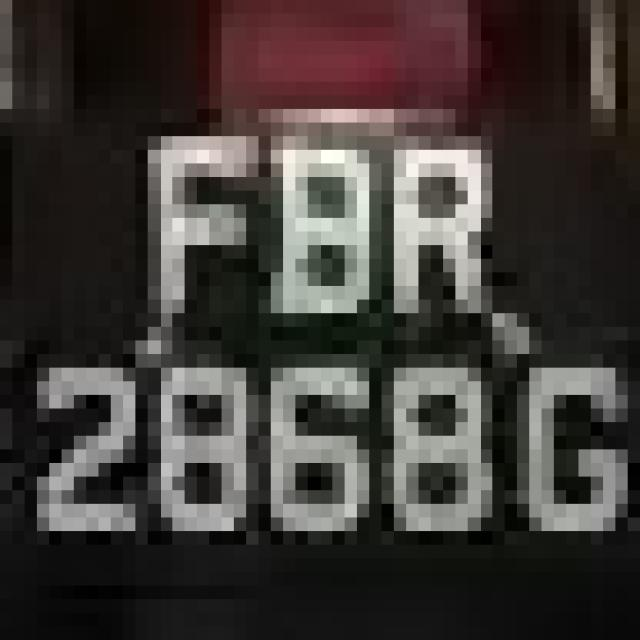2: (0, 327, 148, 558)
6: (234, 327, 369, 558)
8: (357, 368, 505, 586), (136, 340, 247, 531)
B: (234, 82, 369, 327)
F: (136, 95, 247, 368)
G: (492, 313, 640, 586), (0, 0, 13, 14)
R: (394, 68, 517, 368)
